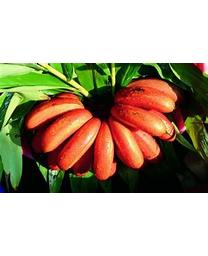banana: (15, 65, 196, 186)
